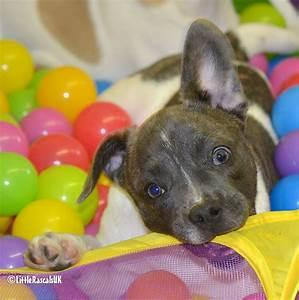dog: (22, 17, 280, 271)
